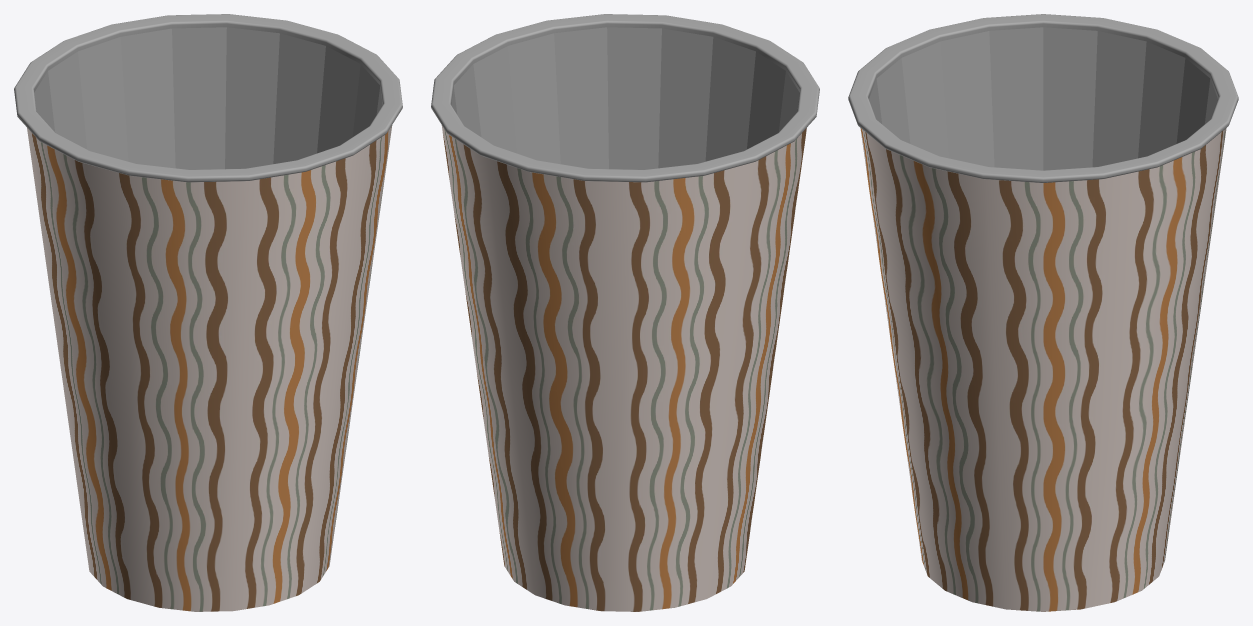
The model's file is Cup1.fbx.
3 views of the same model, side by side, from view 1: azimuth 30°, elevation 25°; view 2: azimuth 150°, elevation 25°; view 3: azimuth 270°, elevation 25° (orthographic).
Parts seen in each view (by area): view 1: polySurface29; view 2: polySurface29; view 3: polySurface29.
Boxes of the visible parts, box(x1,y1,x2,y2) form: polySurface29: box(14, 14, 402, 611); polySurface29: box(431, 14, 819, 611); polySurface29: box(848, 14, 1238, 611).
Size of the model in its own units: 7.71 by 10.12 by 7.71.
Materials: 2 (1 with a texture image).
